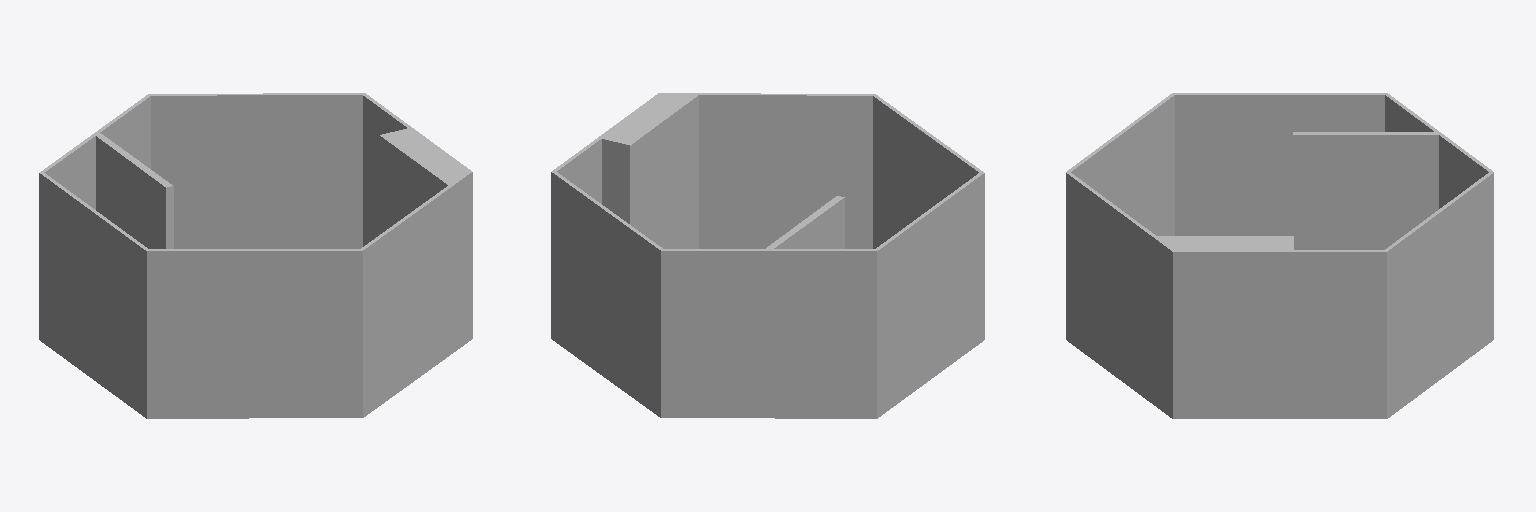
File: wall.obj
The picture shows the model from 3 angles: view 1: azimuth 30°, elevation 25°; view 2: azimuth 150°, elevation 25°; view 3: azimuth 270°, elevation 25°; orthographic projection.
Visible parts, largest first — view 1: Cylinder.001_Cylinder.008; view 2: Cylinder.001_Cylinder.008; view 3: Cylinder.001_Cylinder.008.
Part boxes in pixels (bbox=[...]): Cylinder.001_Cylinder.008: bbox=[39, 93, 472, 418]; Cylinder.001_Cylinder.008: bbox=[551, 93, 984, 418]; Cylinder.001_Cylinder.008: bbox=[1066, 93, 1493, 418].
Size of the model in its own units: 20.37 by 10 by 23.2.